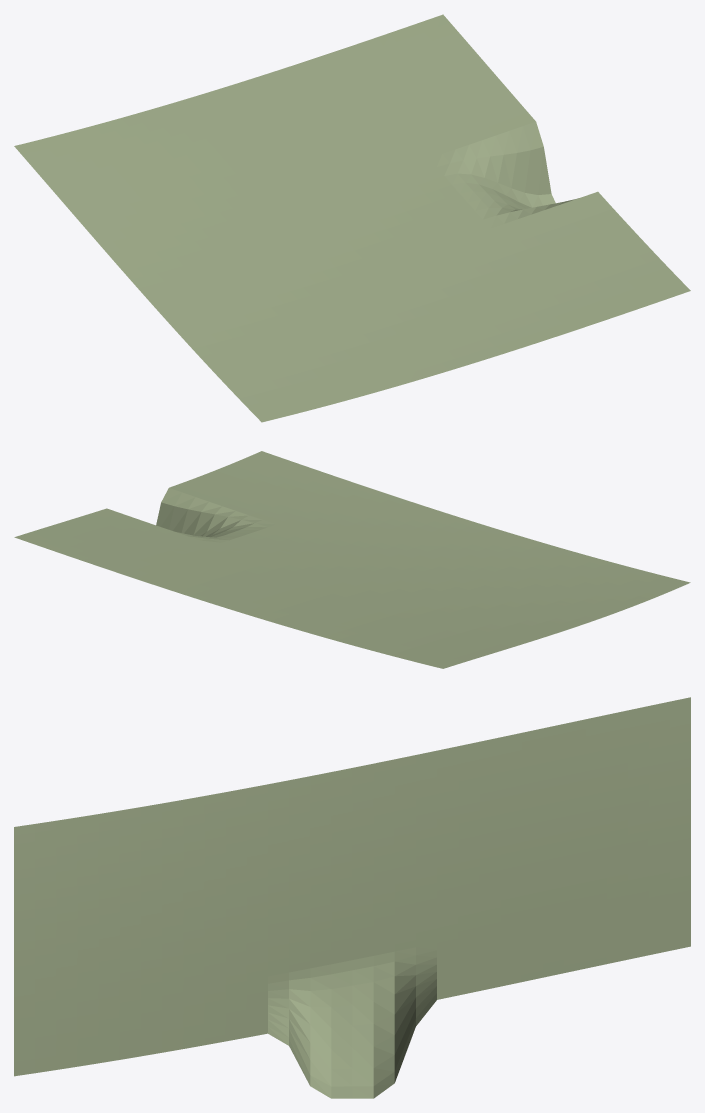
Rendered from valley-0-2.glb.
3 renders of one model, top to bottom at view 1: azimuth 30°, elevation 25°; view 2: azimuth 150°, elevation 25°; view 3: azimuth 270°, elevation 25°, orthographic. The views are drawn at different scales.
Visible parts, largest first — view 1: valley-0-2; view 2: valley-0-2; view 3: valley-0-2.
Boxes of the visible parts, left/top/right/bottom form: valley-0-2: left=14, top=14, right=690, bottom=422; valley-0-2: left=14, top=451, right=690, bottom=668; valley-0-2: left=14, top=697, right=690, bottom=1098.
Bounding box in the file's own units: 256 × 69.5 × 256.
